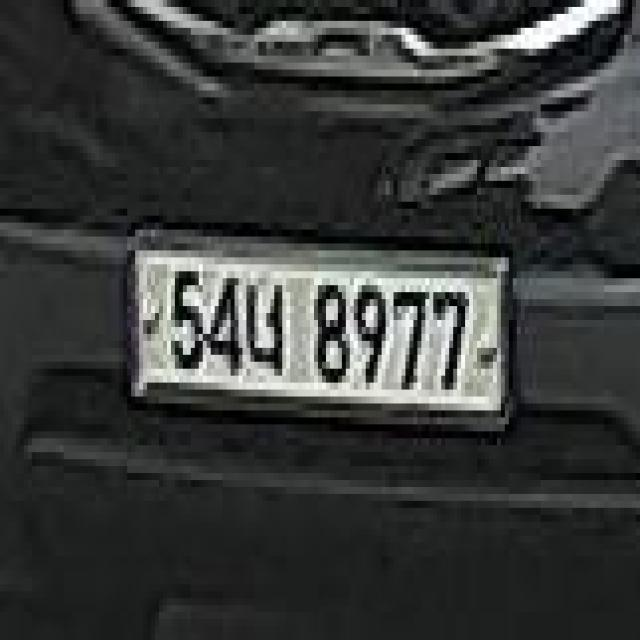4: (211, 266, 246, 376)
5: (167, 263, 207, 371)
7: (434, 284, 472, 392), (393, 280, 430, 390)
8: (310, 273, 352, 392)
9: (356, 276, 389, 389)
license_plate: (121, 214, 526, 447)
neo: (247, 268, 288, 381)
